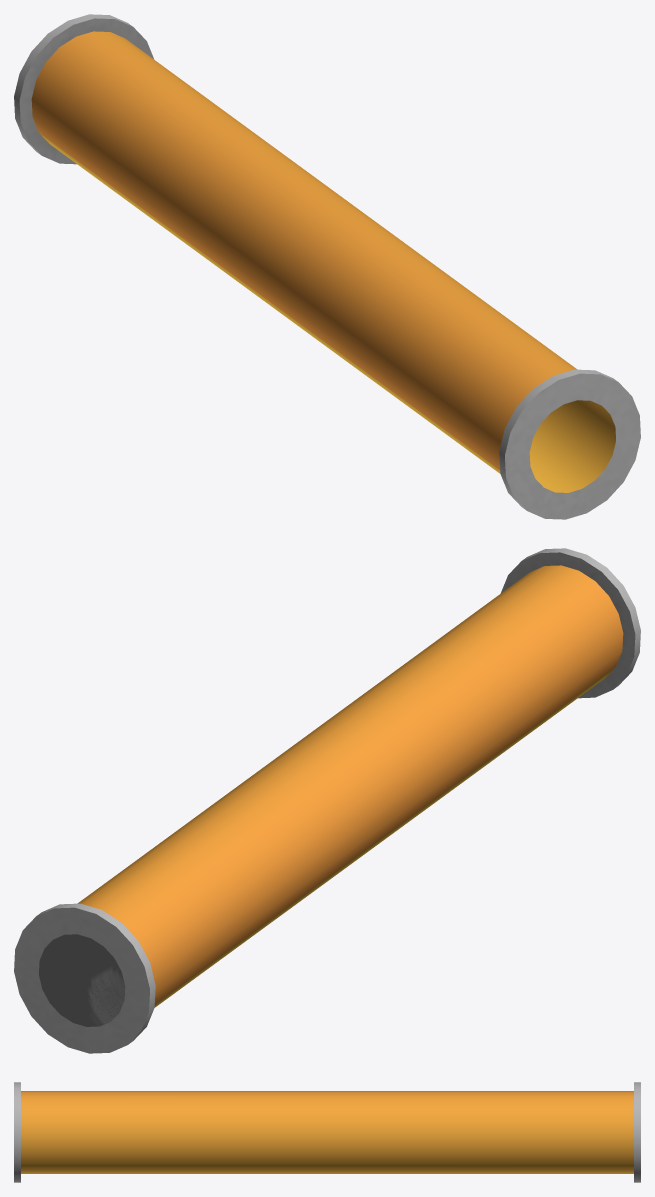
3 views of the same model, one above another, from view 1: azimuth 30°, elevation 25°; view 2: azimuth 150°, elevation 25°; view 3: azimuth 270°, elevation 25° (orthographic). The views are drawn at different scales.
Visible parts, largest first — view 1: Tube_Line_3; view 2: Tube_Line_3; view 3: Tube_Line_3.
Part boxes in pixels (x1,y1,x2,y2): Tube_Line_3: (14,14,640,519); Tube_Line_3: (14,548,640,1053); Tube_Line_3: (14,1082,640,1182).
Bounding box in the file's own units: 6.79 × 6.79 × 42.36.
Materials: 1 (1 with a texture image).
